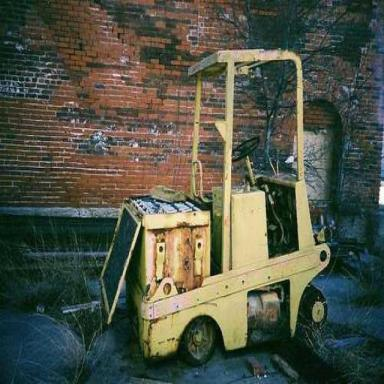forklift: (98, 45, 330, 366)
